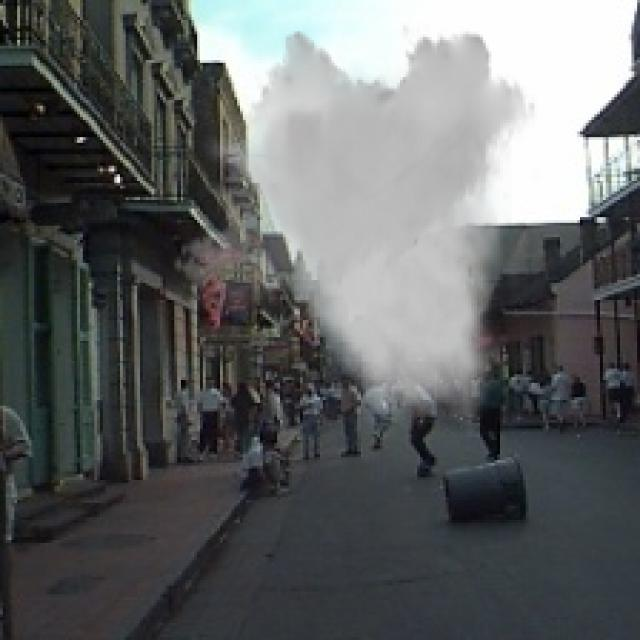Smoke: (172, 20, 537, 437)
